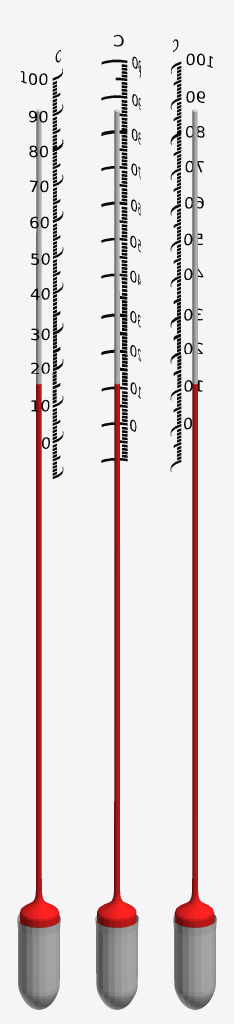
Rendered from lab thermometer.fbx.
3 renders of one model, left to right at view 1: azimuth 90°, elevation 25°; view 2: azimuth 210°, elevation 25°; view 3: azimuth 270°, elevation 25°, orthographic.
Parts seen in each view (by area): view 1: Mesh_1, Mesh_0; view 2: Mesh_1, Mesh_0; view 3: Mesh_1, Mesh_0.
Boxes of the visible parts, x1=… form: Mesh_1: x1=17, y1=50, x2=63, y2=1009; Mesh_0: x1=19, y1=109, x2=59, y2=927; Mesh_1: x1=95, y1=34, x2=140, y2=1009; Mesh_0: x1=97, y1=109, x2=136, y2=927; Mesh_1: x1=170, y1=39, x2=216, y2=1009; Mesh_0: x1=174, y1=109, x2=214, y2=927.
Size of the model in its own units: 3.36 by 73.63 by 3.36.
Materials: 1 (1 with a texture image).
